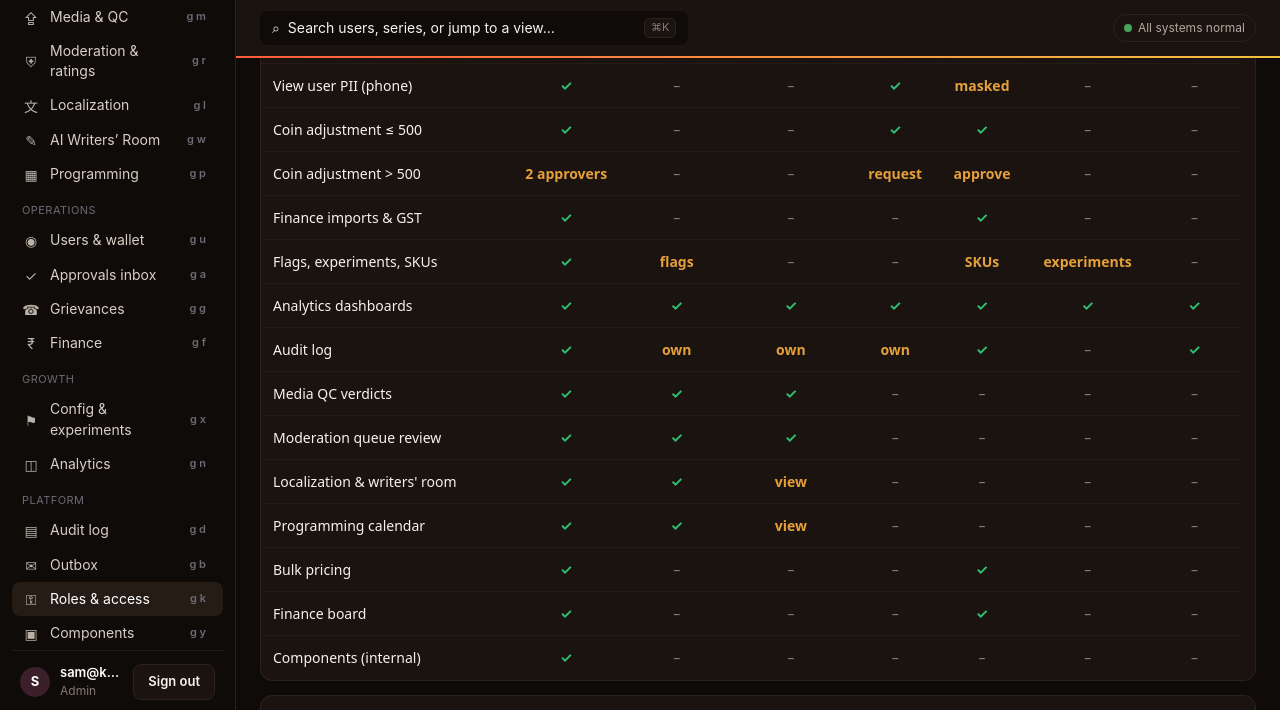
signed-in OIDC operator › offline sign-out is refused honestly
(page scrolled)
Click the button "Sign out" at x=174, y=682, box top-left (133, 664), bottom-right (215, 700)
(page scrolled)
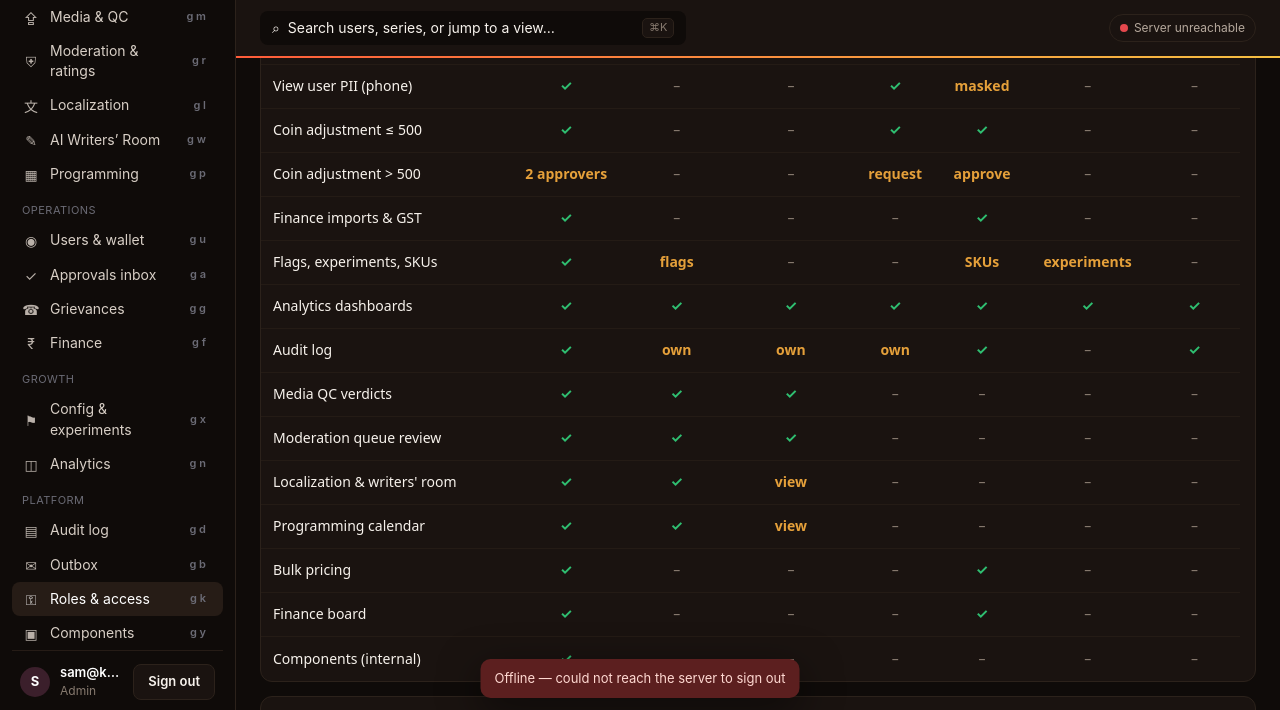
Check: the text "Offline — could not reach the server to sign out" is shown, box top-left (480, 659), bottom-right (800, 698)
